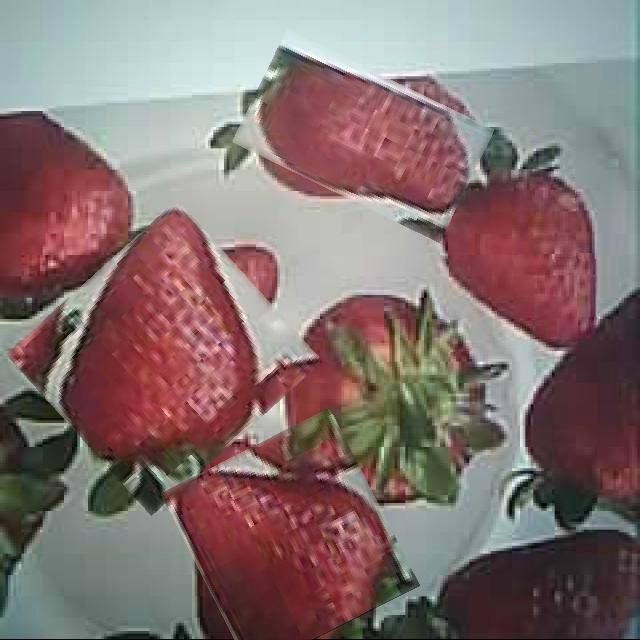strawberry: (28, 224, 302, 491), (177, 424, 402, 640), (240, 51, 487, 220), (442, 170, 598, 352)
